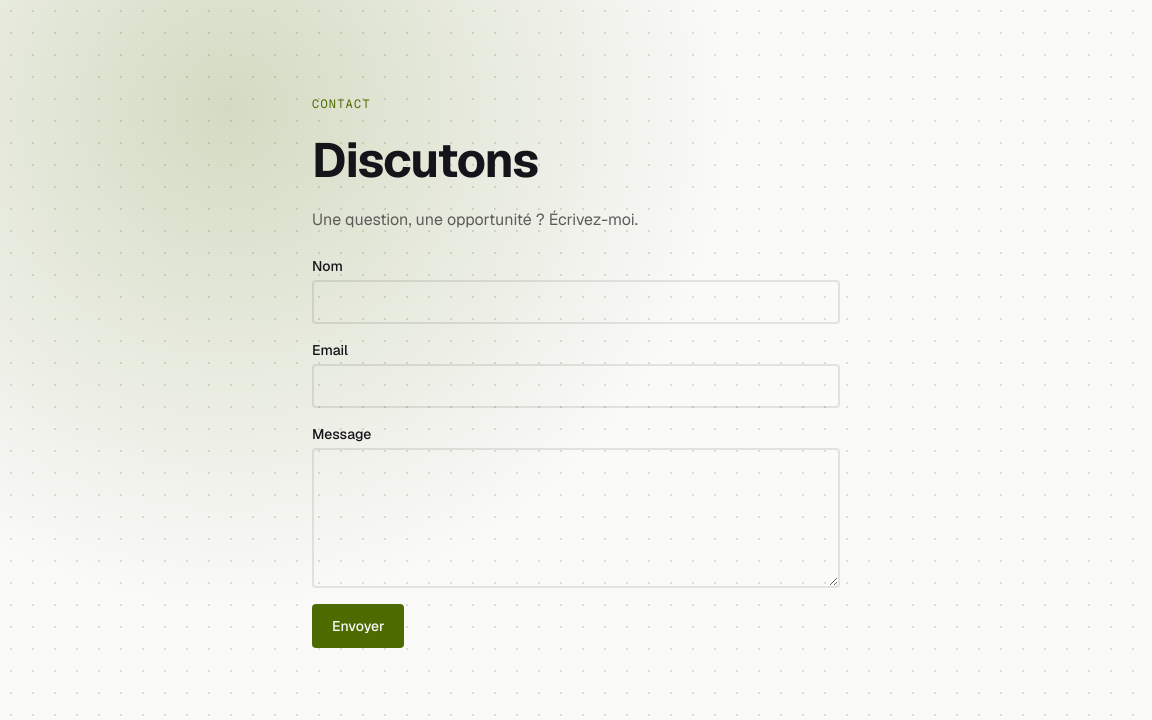
Test: Contact page › envoie le formulaire et affiche un message de succès
Type "Jane Doe" into the field labelled "Nom" at [576, 302], box [312,280,840,324]
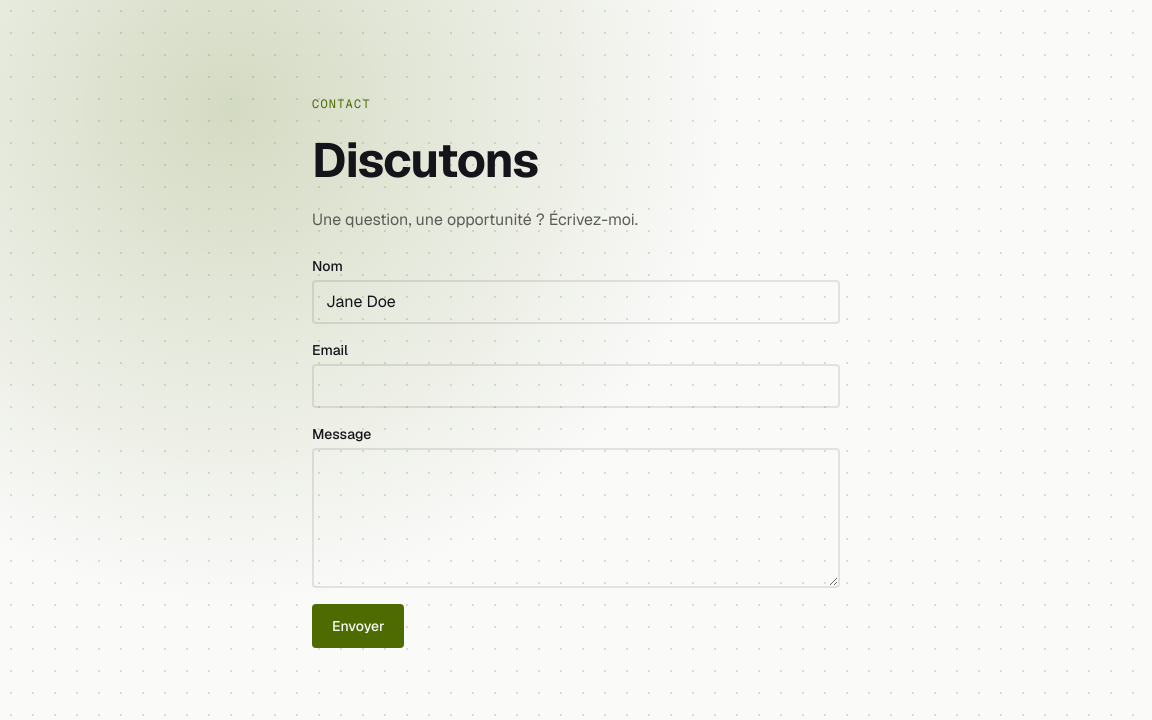
Type "jane@example.com" into the field labelled "Email" at [576, 386], box [312,364,840,408]
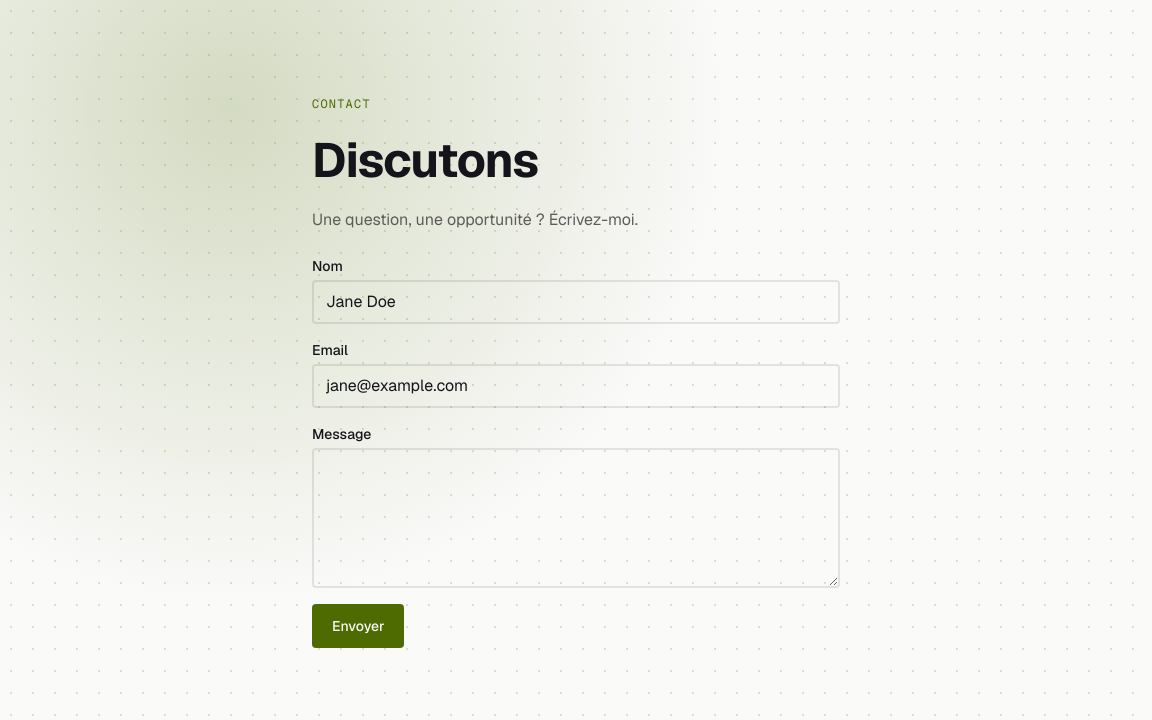
Type "Bonjour, votre profil m'intéresse." into the text box labelled "Message" at [576, 518], box [312,448,840,588]
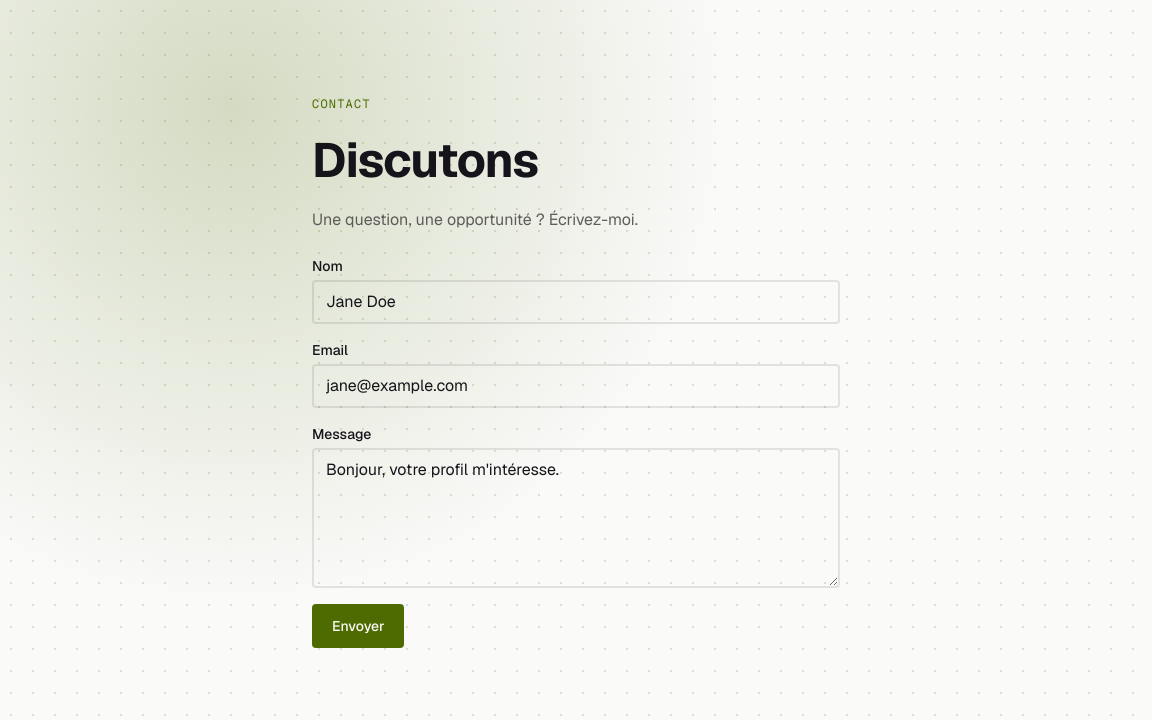
Click the button "Envoyer" at [358, 626], box [312,604,404,648]
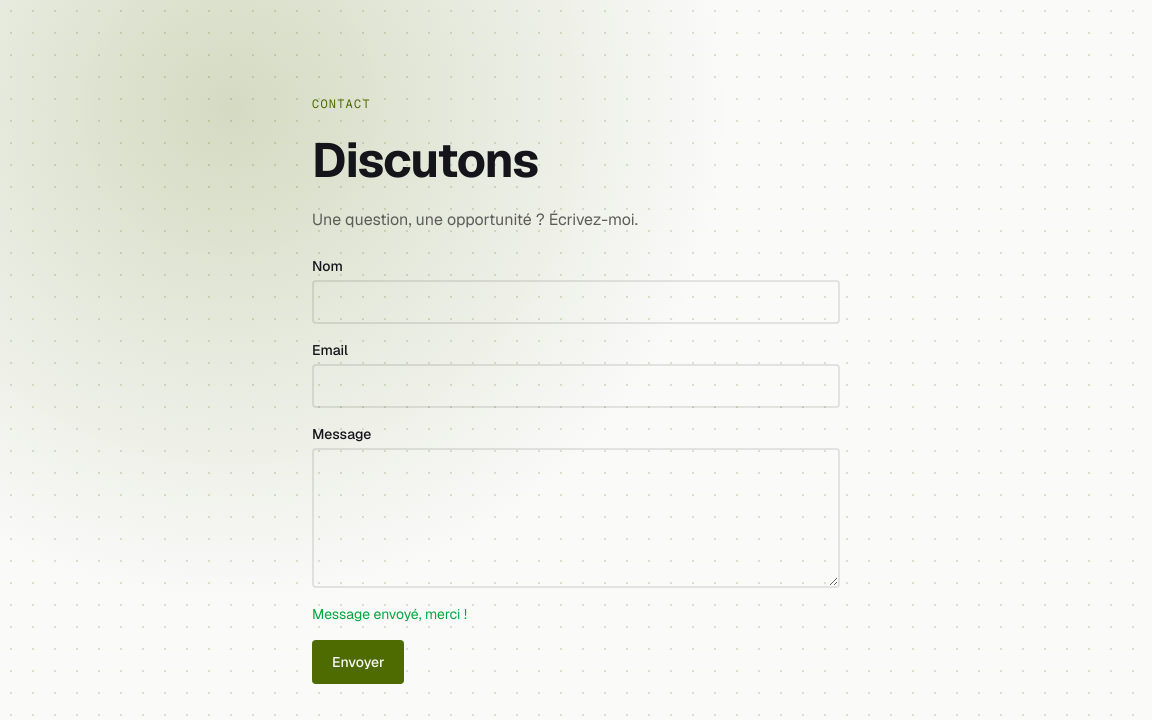
Now the text "Message envoyé, merci !" is shown, box [312,605,467,623]
